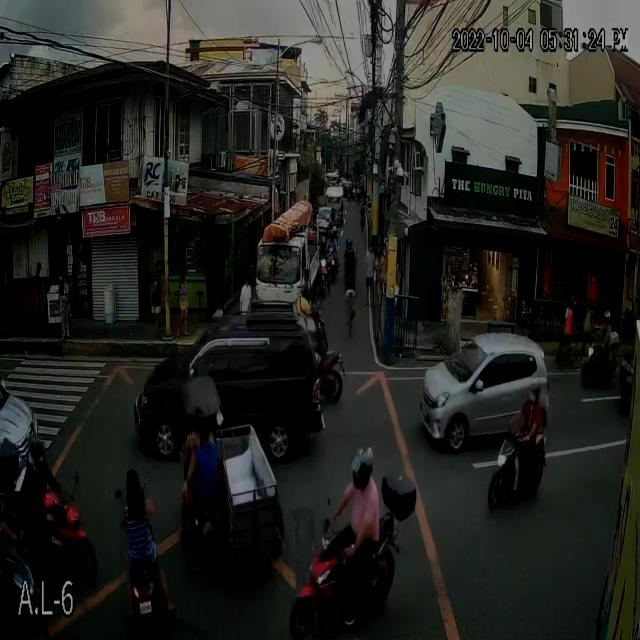Full-Faced: (345, 440, 377, 490), (25, 429, 50, 468), (525, 378, 544, 410), (600, 307, 613, 331), (344, 233, 353, 254)
